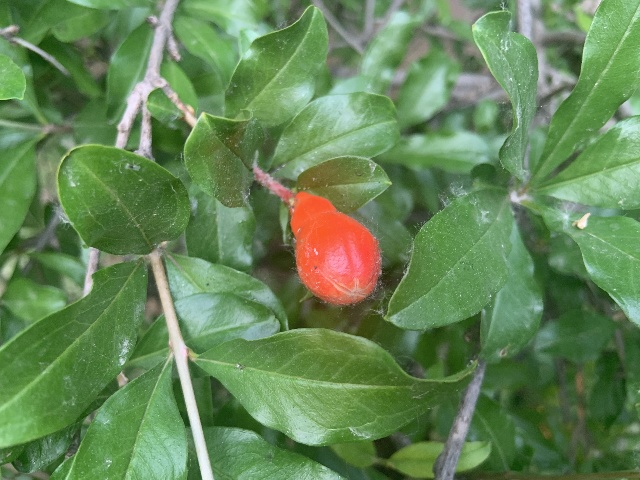bud: (291, 191, 380, 306)
